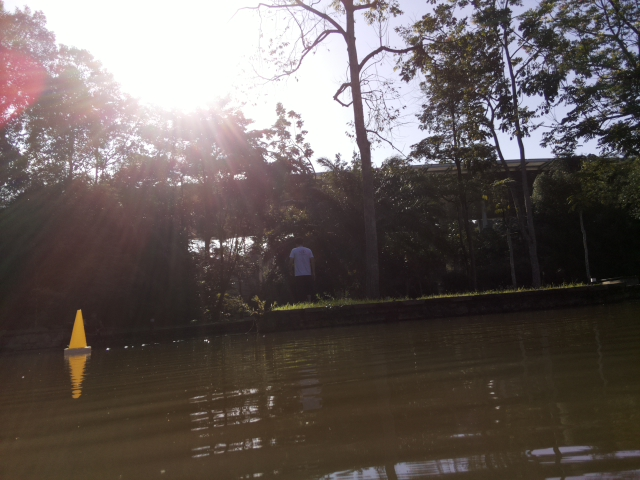checkpoint: (60, 307, 95, 358)
